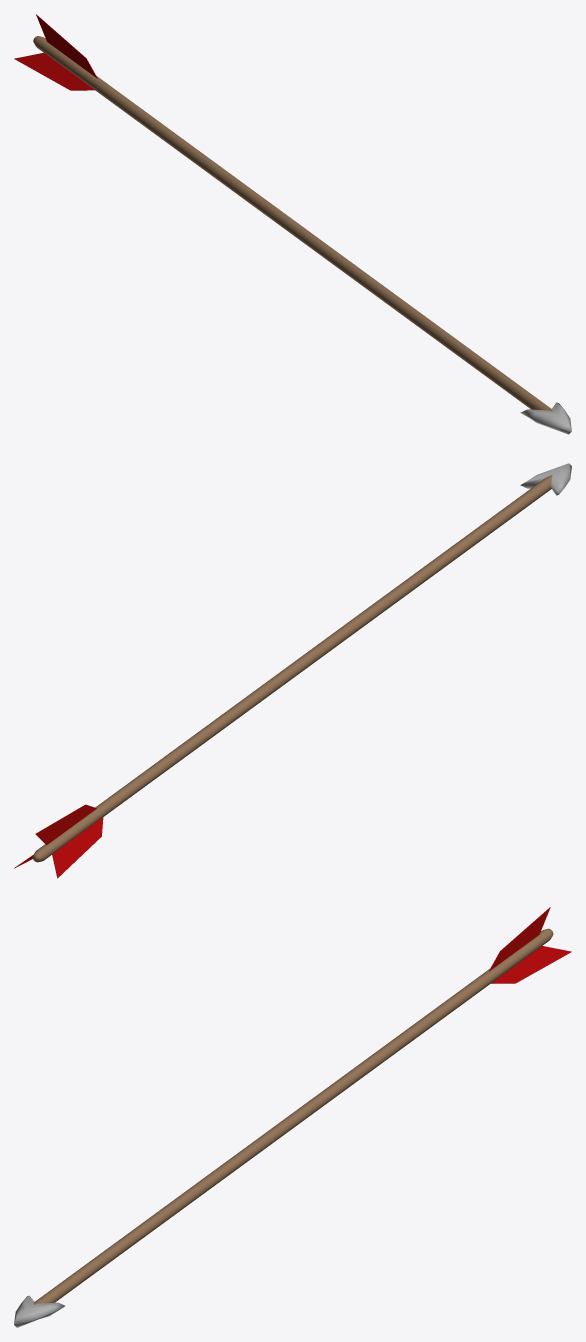
Rendered from arrow.fbx.
3 renders of one model, top to bottom at view 1: azimuth 30°, elevation 25°; view 2: azimuth 150°, elevation 25°; view 3: azimuth 330°, elevation 25°, orthographic.
Visible parts, largest first — view 1: arrow; view 2: arrow; view 3: arrow.
Part boxes in pixels (<box>): arrow: <box>14,14,571,434</box>; arrow: <box>14,463,571,878</box>; arrow: <box>14,907,571,1327</box>.
Bounding box in the file's own units: 0.044 × 0.0383 × 0.9371.
